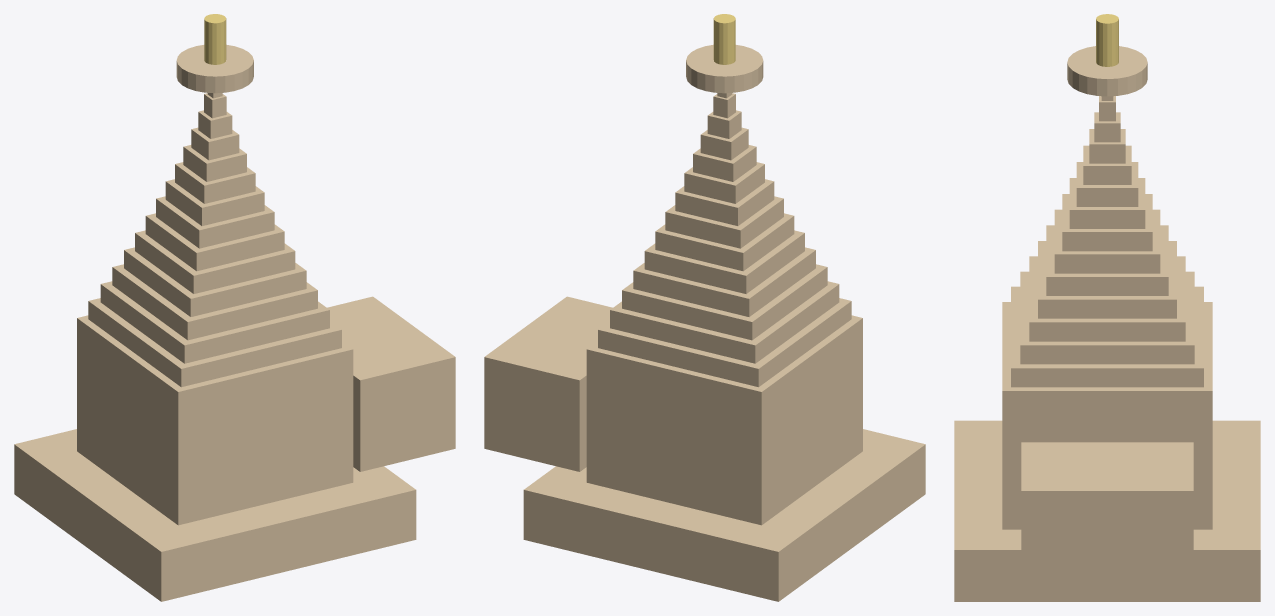
File: nagara_s5.glb
The picture shows the model from 3 angles, left to right: view 1: azimuth 30°, elevation 25°; view 2: azimuth 150°, elevation 25°; view 3: azimuth 270°, elevation 25°; orthographic projection. The views are drawn at different scales.
Visible parts, largest first — view 1: Cube.001, Cube, Cube.016, Cube.002, Cube.003, Cube.004, Cube.005, Cube.006, Cube.007, Cylinder, Cube.008, Cube.009 (+5 smaller); view 2: Cube.001, Cube, Cube.016, Cube.002, Cube.003, Cube.004, Cube.005, Cube.006, Cube.007, Cylinder, Cube.008, Cube.009 (+5 smaller); view 3: Cube.016, Cube, Cube.001, Cube.002, Cube.003, Cube.004, Cube.005, Cube.006, Cube.007, Cylinder, Cube.008, Cube.009 (+5 smaller).
Boxes of the visible parts, bbox=[...] form: Cube.001: bbox=[77, 315, 353, 525]; Cube: bbox=[14, 429, 416, 601]; Cube.016: bbox=[327, 296, 455, 471]; Cube.002: bbox=[88, 298, 341, 387]; Cube.003: bbox=[100, 281, 329, 363]; Cube.004: bbox=[112, 264, 317, 340]; Cube.005: bbox=[124, 247, 306, 316]; Cube.006: bbox=[135, 230, 295, 293]; Cube.007: bbox=[145, 213, 284, 271]; Cylinder: bbox=[176, 44, 253, 93]; Cube.008: bbox=[156, 196, 274, 248]; Cube.009: bbox=[165, 179, 264, 225]; Cube.001: bbox=[586, 315, 862, 525]; Cube: bbox=[523, 429, 925, 601]; Cube.016: bbox=[484, 296, 612, 471]; Cube.002: bbox=[598, 298, 851, 387]; Cube.003: bbox=[610, 281, 839, 363]; Cube.004: bbox=[622, 264, 827, 340]; Cube.005: bbox=[633, 247, 815, 316]; Cube.006: bbox=[644, 230, 804, 293]; Cube.007: bbox=[655, 213, 794, 271]; Cylinder: bbox=[686, 44, 763, 93]; Cube.008: bbox=[665, 196, 783, 248]; Cube.009: bbox=[675, 179, 774, 225]; Cube.016: bbox=[1021, 442, 1193, 586]; Cube: bbox=[954, 420, 1260, 601]; Cube.001: bbox=[1002, 302, 1212, 529]; Cube.002: bbox=[1011, 286, 1203, 387]; Cube.003: bbox=[1020, 271, 1194, 364]; Cube.004: bbox=[1029, 256, 1185, 341]; Cube.005: bbox=[1038, 241, 1176, 318]; Cube.006: bbox=[1046, 225, 1168, 295]; Cube.007: bbox=[1054, 209, 1160, 273]; Cylinder: bbox=[1067, 46, 1147, 96]; Cube.008: bbox=[1062, 194, 1152, 251]; Cube.009: bbox=[1069, 178, 1145, 228].
Size of the model in its own units: 4.1 by 5.98 by 3.2.
